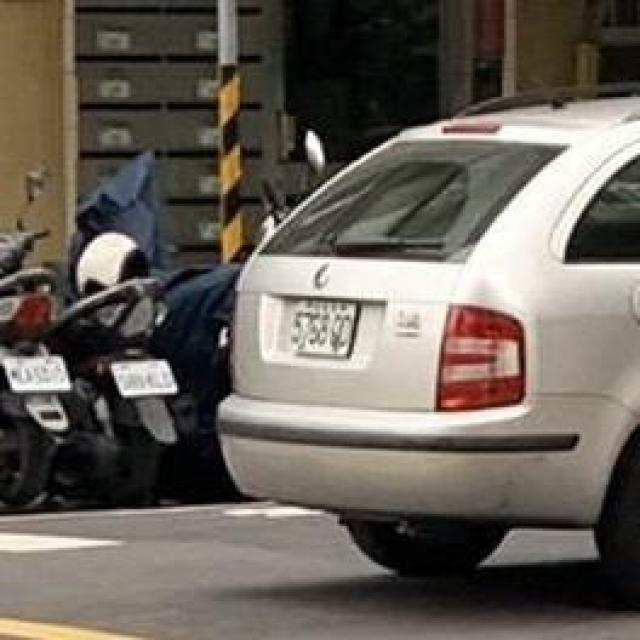W: (281, 293, 368, 361), (0, 349, 75, 400), (106, 352, 182, 402), (286, 301, 354, 354)
